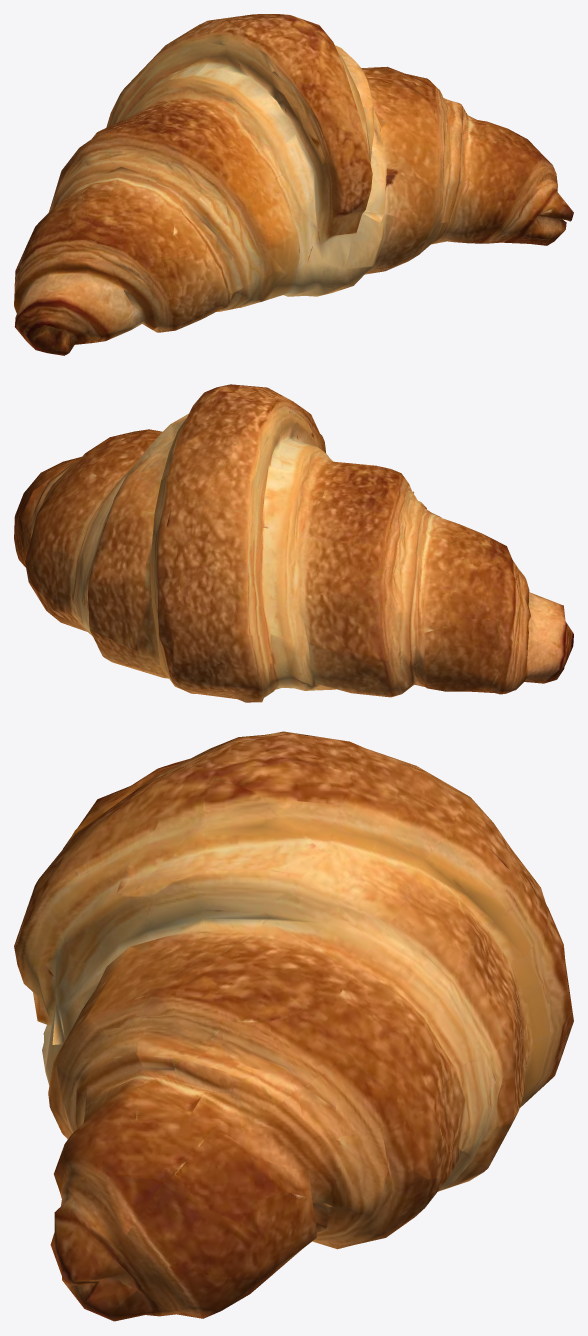
The model's file is croissant.glb.
The picture shows the model from 3 angles, top to bottom: view 1: azimuth 30°, elevation 25°; view 2: azimuth 150°, elevation 25°; view 3: azimuth 270°, elevation 25°; orthographic projection. The views are drawn at different scales.
Size of the model in its own units: 1.89 by 0.8051 by 1.04.
Materials: 1 (1 with a texture image).
